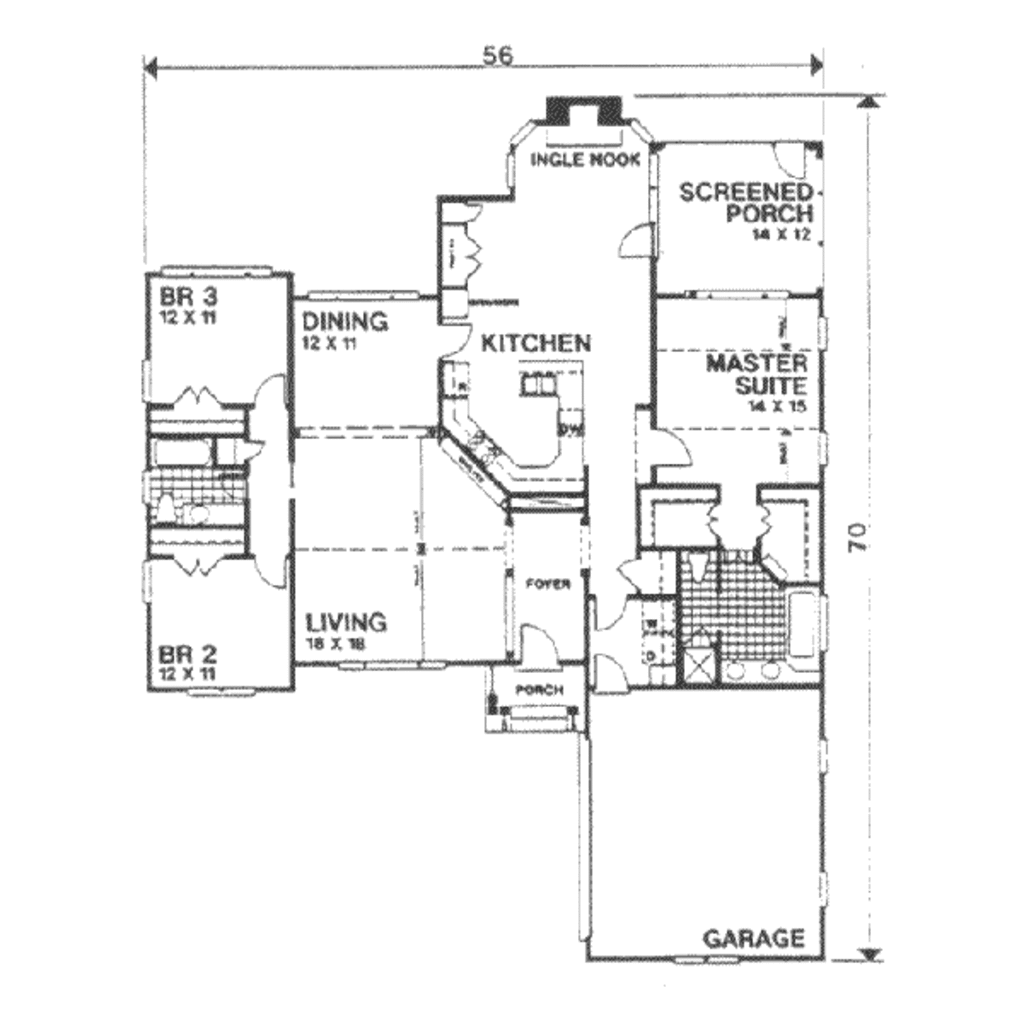door: (249, 371, 307, 420), (607, 214, 664, 263), (454, 226, 497, 288), (588, 646, 634, 696), (517, 623, 563, 671), (248, 545, 297, 590), (652, 423, 695, 471), (763, 143, 814, 181), (593, 588, 635, 633), (174, 377, 228, 410), (167, 551, 232, 578), (436, 322, 482, 360), (608, 554, 651, 591), (701, 501, 729, 544), (752, 501, 772, 544), (244, 434, 271, 462)
large_sink: (682, 545, 726, 584), (149, 481, 176, 527)
small_sink: (714, 654, 789, 681), (186, 503, 252, 526)
tub: (787, 587, 826, 678), (145, 435, 219, 465)
twin_sink: (514, 359, 570, 400)
window: (335, 655, 449, 671), (813, 724, 835, 787), (184, 682, 262, 699), (675, 948, 741, 967), (808, 310, 839, 350), (813, 424, 836, 471), (806, 868, 834, 904)
